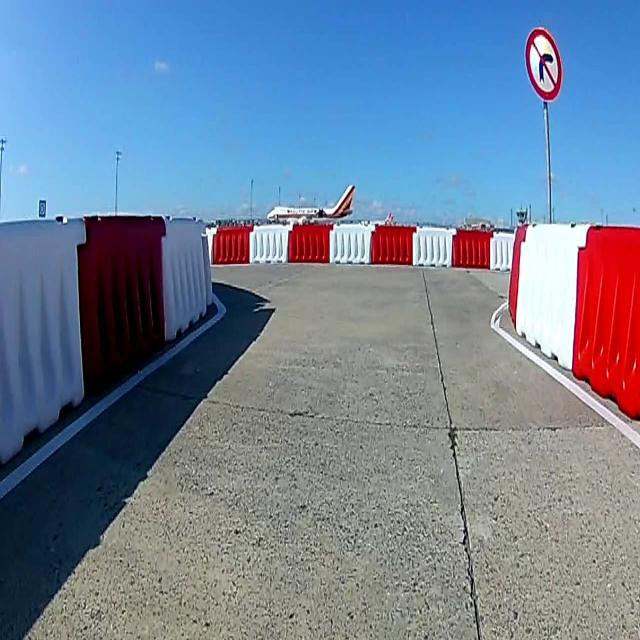sagadonulmez: (524, 27, 562, 102)
